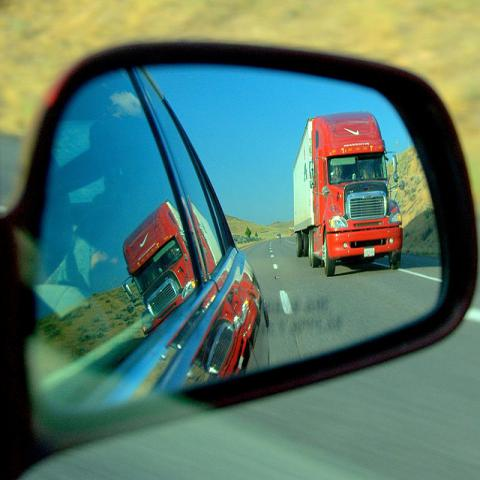car: (26, 70, 271, 423), (276, 234, 282, 240)
truck: (119, 111, 404, 335)
